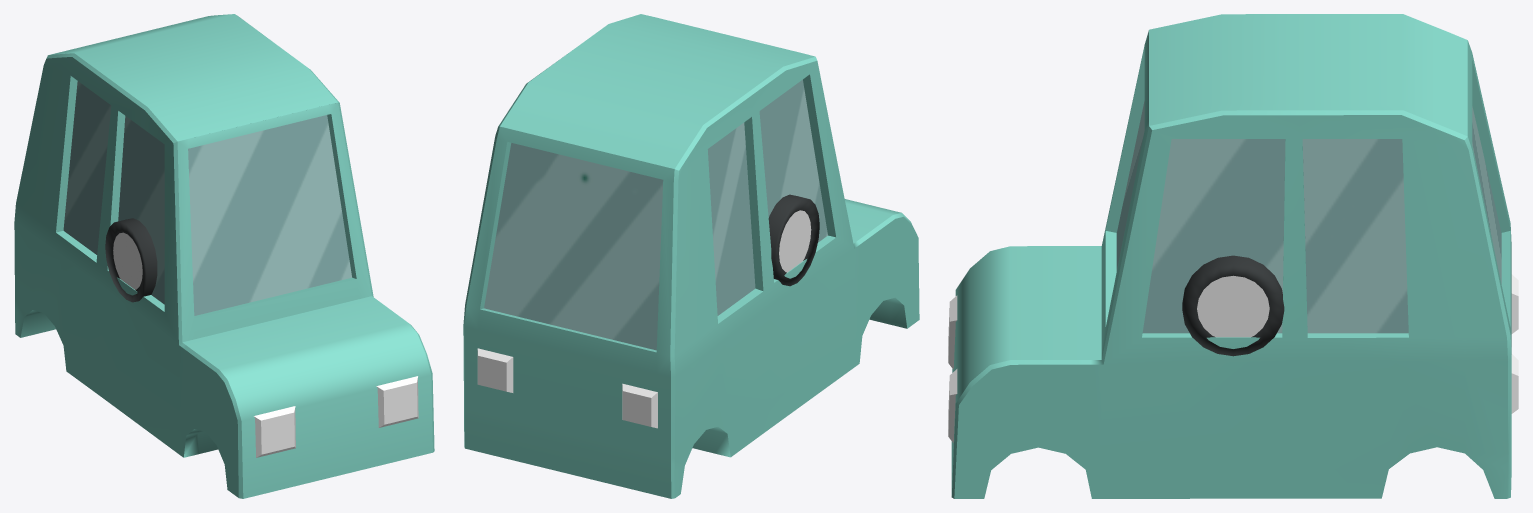
The model's file is car_1_T.fbx.
The picture shows the model from 3 angles, left to right: view 1: azimuth 30°, elevation 25°; view 2: azimuth 150°, elevation 25°; view 3: azimuth 270°, elevation 25°; orthographic projection. The views are drawn at different scales.
Visible parts, largest first — view 1: car_1_chasis_T, car_1_right_wheel_T, car_1_back_wheel_T; view 2: car_1_chasis_T, car_1_right_wheel_T, car_1_back_wheel_T; view 3: car_1_chasis_T, car_1_back_wheel_T.
Part boxes in pixels (left/top/right/bottom): car_1_chasis_T: left=14, top=14, right=434, bottom=498; car_1_right_wheel_T: left=105, top=219, right=157, bottom=302; car_1_back_wheel_T: left=117, top=218, right=156, bottom=301; car_1_chasis_T: left=463, top=14, right=919, bottom=498; car_1_right_wheel_T: left=769, top=194, right=819, bottom=286; car_1_back_wheel_T: left=768, top=195, right=797, bottom=276; car_1_chasis_T: left=948, top=14, right=1518, bottom=498; car_1_back_wheel_T: left=1182, top=255, right=1284, bottom=356.
Bounding box in the file's own units: 76.29 × 115 × 157.
